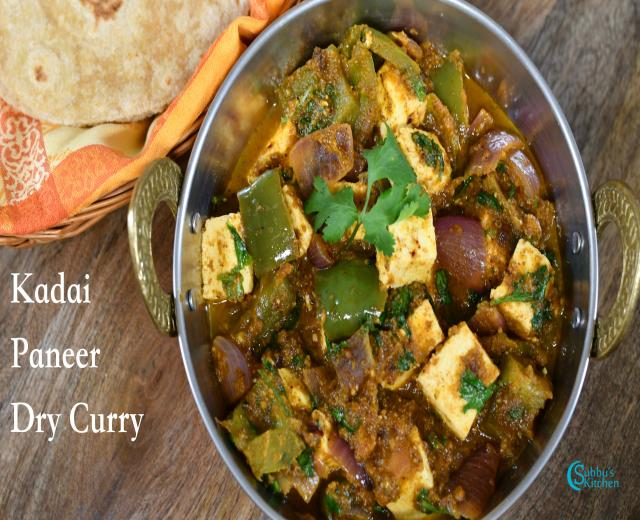kadai paneer: (148, 4, 619, 512), (5, 164, 145, 247)
